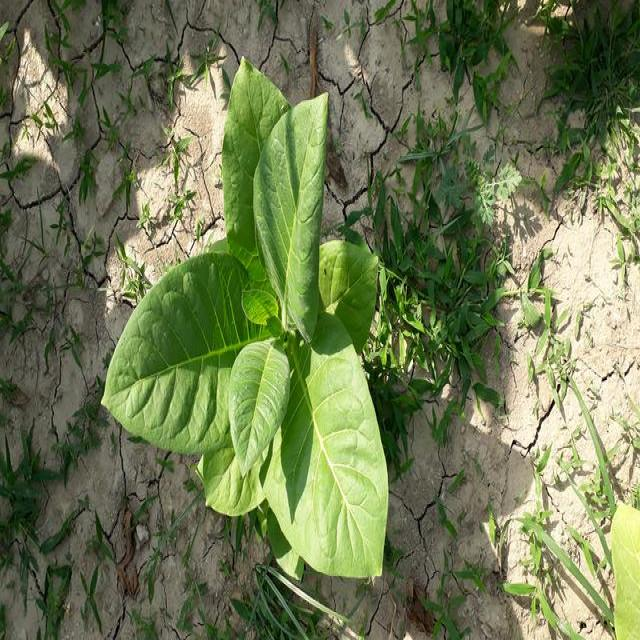crop: (98, 28, 404, 580)
